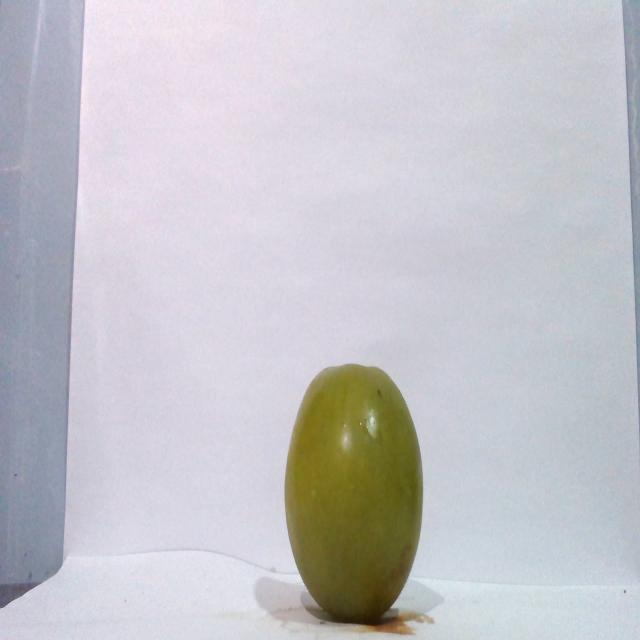Red: (282, 361, 424, 623)
